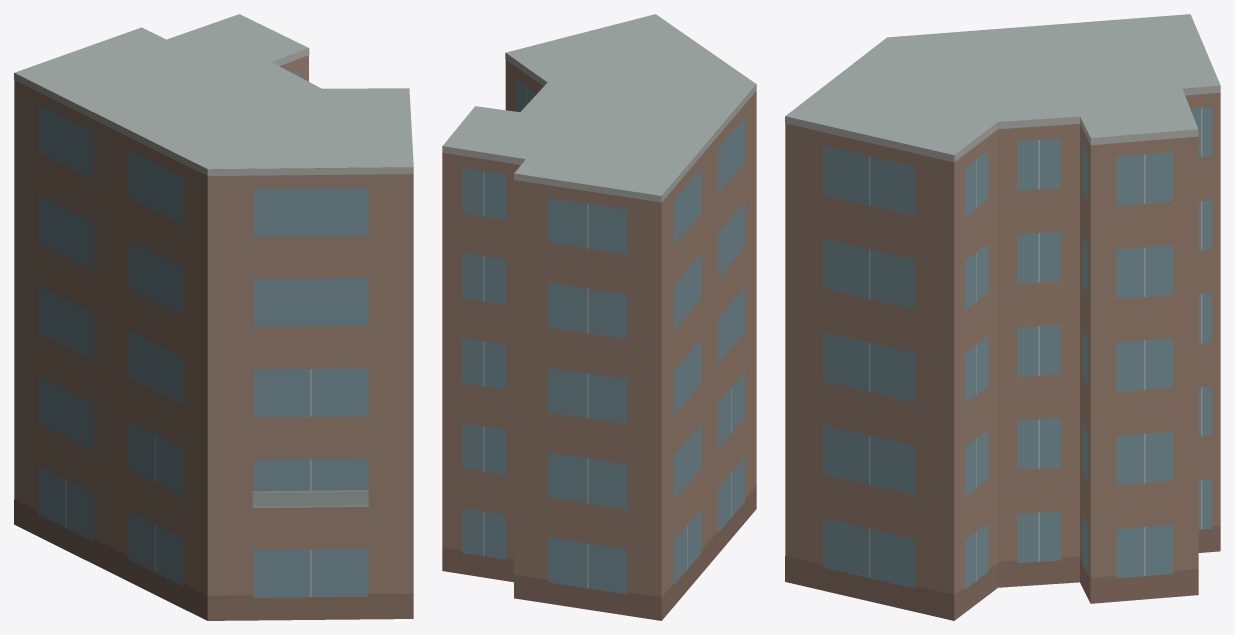
The model's file is survey-upis-32706258.glb.
3 views of the same model, side by side, from view 1: azimuth 30°, elevation 25°; view 2: azimuth 150°, elevation 25°; view 3: azimuth 270°, elevation 25° (orthographic). The views are drawn at different scales.
Visible parts, largest first — view 1: survey-upis-32706258.tmp; view 2: survey-upis-32706258.tmp; view 3: survey-upis-32706258.tmp.
Part boxes in pixels (bbox=[...]): survey-upis-32706258.tmp: bbox=[14, 14, 413, 620]; survey-upis-32706258.tmp: bbox=[442, 14, 756, 620]; survey-upis-32706258.tmp: bbox=[785, 14, 1220, 620].
Size of the model in its own units: 10.28 by 15.8 by 13.4.
